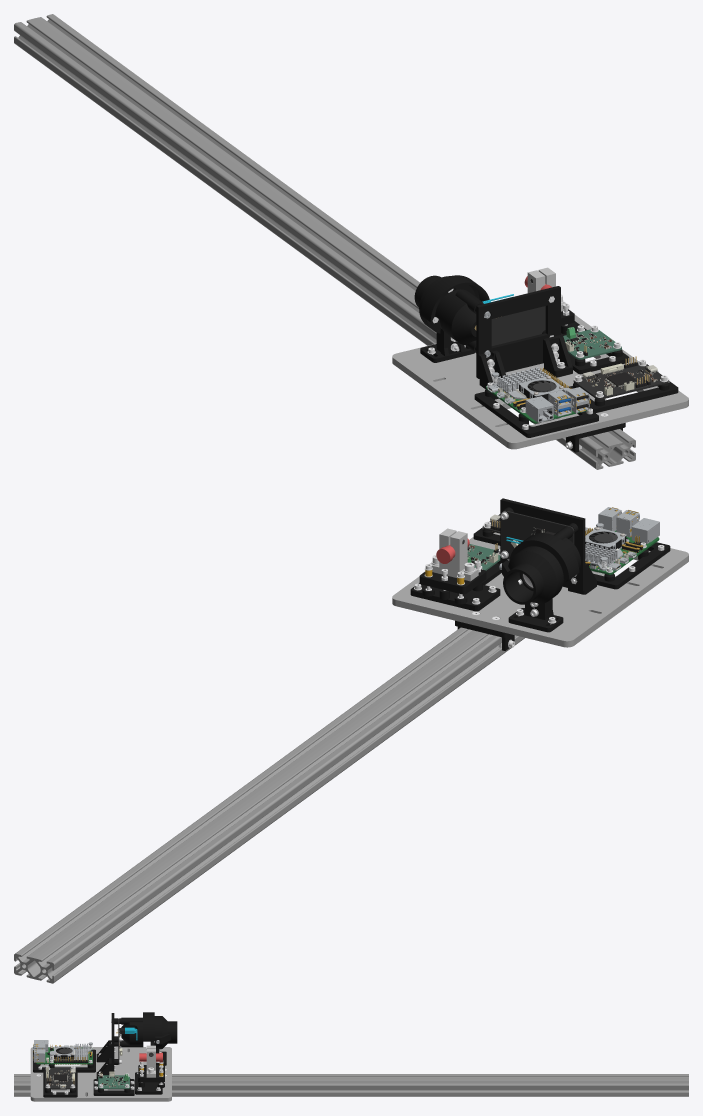
File: laser-sled.glb
3 renders of one model, top to bottom at view 1: azimuth 30°, elevation 25°; view 2: azimuth 150°, elevation 25°; view 3: azimuth 270°, elevation 25°, orthographic. The views are drawn at different scales.
Visible parts, largest first — view 1: REF • 2040 rail from 5537T912:1, P01 • Main deck 180 x 210:1, P07 • Upright receiver frame:1, P15 • Photodiode shroud and receiver cup:1, P04 • Pi 5 carrier:1, =>[0:1:1:119], phy-a-a_PCB:1, P11B • Lens cell with telescoping light tube:1, Untitled_PCB:1, P05 • PHY-A carrier:1, P09 • Receiver foot 2:1, tx-a_PCB:1 (+1 smaller); view 2: REF • 2040 rail from 5537T912:1, P01 • Main deck 180 x 210:1, P16 • Removable front lens hood:1, P07 • Upright receiver frame:1, P11B • Lens cell with telescoping light tube:1, phy-a-a_PCB:1, =>[0:1:1:119], P13 • Laser yaw base:1, SK12Bady:1, P04 • Pi 5 carrier:1, P14 • SK12 leveling platform:1; view 3: REF • 2040 rail from 5537T912:1, P01 • Main deck 180 x 210:1, P16 • Removable front lens hood:1, P15 • Photodiode shroud and receiver cup:1, =>[0:1:1:119], Untitled_PCB:1, P13 • Laser yaw base:1, P11B • Lens cell with telescoping light tube:1, tx-a_PCB:1, P06 • TX-A carrier:1, P05 • PHY-A carrier:1, P04 • Pi 5 carrier:1 (+9 smaller).
Boxes of the visible parts, left/top/right/bottom form: REF • 2040 rail from 5537T912:1: left=14, top=14, right=635, bottom=469; P01 • Main deck 180 x 210:1: left=392, top=314, right=688, bottom=449; P07 • Upright receiver frame:1: left=476, top=286, right=560, bottom=378; P15 • Photodiode shroud and receiver cup:1: left=435, top=289, right=483, bottom=352; P04 • Pi 5 carrier:1: left=474, top=389, right=598, bottom=437; =>[0:1:1:119]: left=491, top=367, right=570, bottom=400; phy-a-a_PCB:1: left=491, top=306, right=545, bottom=345; P11B • Lens cell with telescoping light tube:1: left=420, top=275, right=489, bottom=351; Untitled_PCB:1: left=573, top=363, right=668, bottom=399; P05 • PHY-A carrier:1: left=567, top=381, right=678, bottom=413; P09 • Receiver foot 2:1: left=543, top=335, right=572, bottom=377; tx-a_PCB:1: left=563, top=329, right=621, bottom=359; REF • 2040 rail from 5537T912:1: left=14, top=570, right=604, bottom=983; P01 • Main deck 180 x 210:1: left=392, top=527, right=688, bottom=647; P16 • Removable front lens hood:1: left=502, top=546, right=563, bottom=604; P07 • Upright receiver frame:1: left=500, top=498, right=585, bottom=591; P11B • Lens cell with telescoping light tube:1: left=509, top=533, right=579, bottom=619; phy-a-a_PCB:1: left=501, top=510, right=574, bottom=559; =>[0:1:1:119]: left=585, top=523, right=629, bottom=570; P13 • Laser yaw base:1: left=410, top=582, right=500, bottom=611; SK12Bady:1: left=430, top=528, right=478, bottom=581; P04 • Pi 5 carrier:1: left=593, top=542, right=670, bottom=589; P14 • SK12 leveling platform:1: left=419, top=569, right=486, bottom=594; REF • 2040 rail from 5537T912:1: left=14, top=1074, right=688, bottom=1096; P01 • Main deck 180 x 210:1: left=30, top=1047, right=171, bottom=1101; P16 • Removable front lens hood:1: left=154, top=1016, right=177, bottom=1048; P15 • Photodiode shroud and receiver cup:1: left=119, top=1017, right=143, bottom=1047; =>[0:1:1:119]: left=49, top=1042, right=92, bottom=1060; Untitled_PCB:1: left=45, top=1068, right=75, bottom=1089; P13 • Laser yaw base:1: left=135, top=1072, right=164, bottom=1094; P11B • Lens cell with telescoping light tube:1: left=143, top=1012, right=159, bottom=1053; tx-a_PCB:1: left=98, top=1075, right=129, bottom=1088; P06 • TX-A carrier:1: left=93, top=1078, right=134, bottom=1095; P05 • PHY-A carrier:1: left=43, top=1070, right=77, bottom=1097; P04 • Pi 5 carrier:1: left=33, top=1049, right=95, bottom=1072.
Size of the model in its own units: 0.18 by 0.106 by 1.
